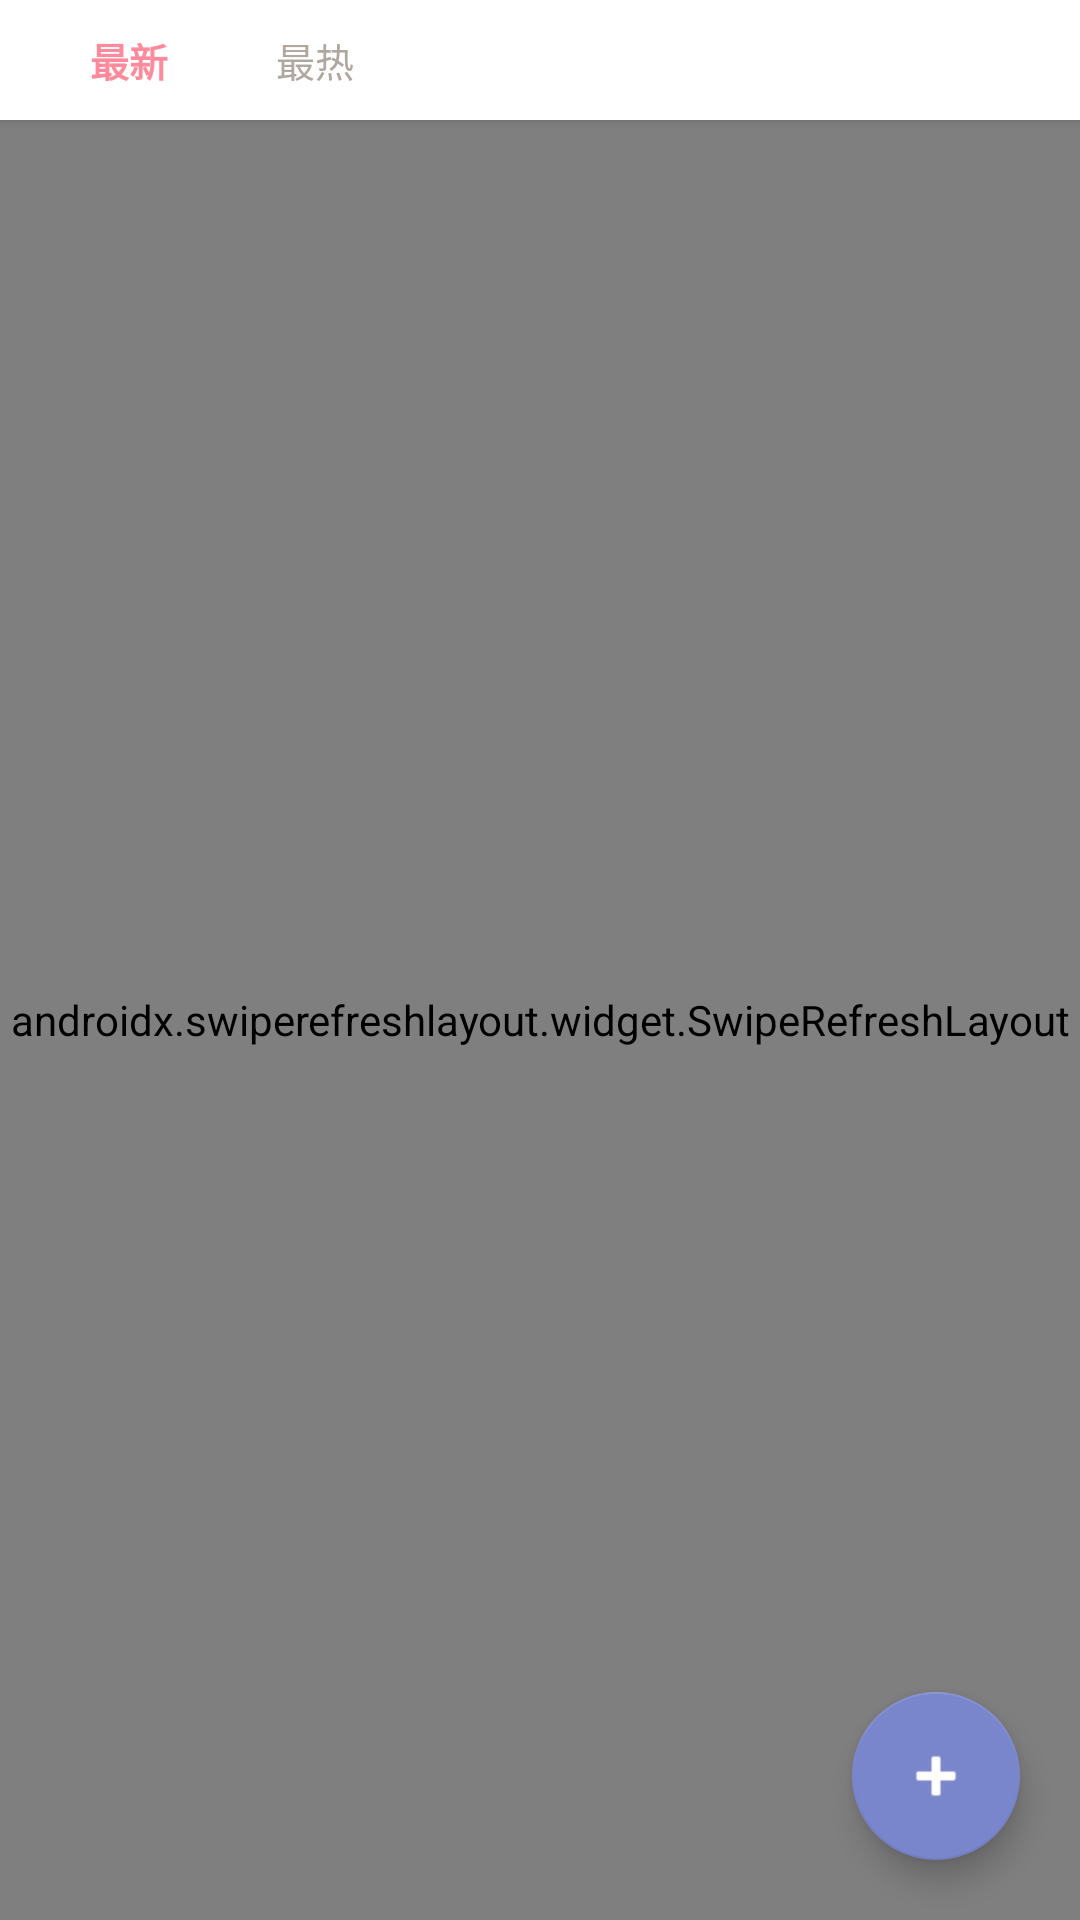

Point at icon controls on the screen. Image size 1080x1920, points as (x=x, y=y).
发帖: (x=936, y=1776)
